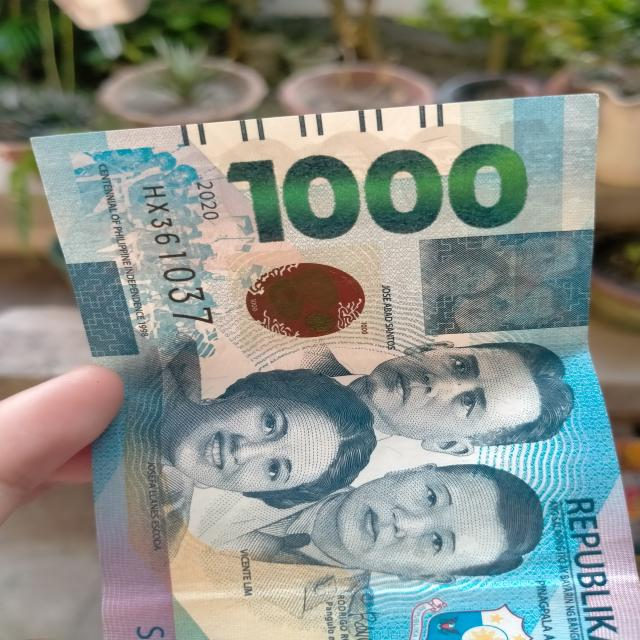concealed_value: (419, 226, 592, 334)
optically_variable_device: (230, 243, 386, 350)
serial_number: (138, 175, 220, 332)
value: (226, 142, 539, 241)
